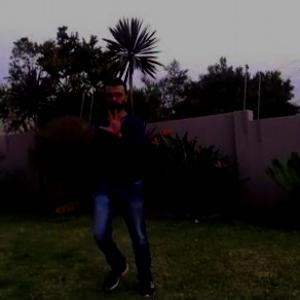follow_hand: (96, 102, 128, 140)
